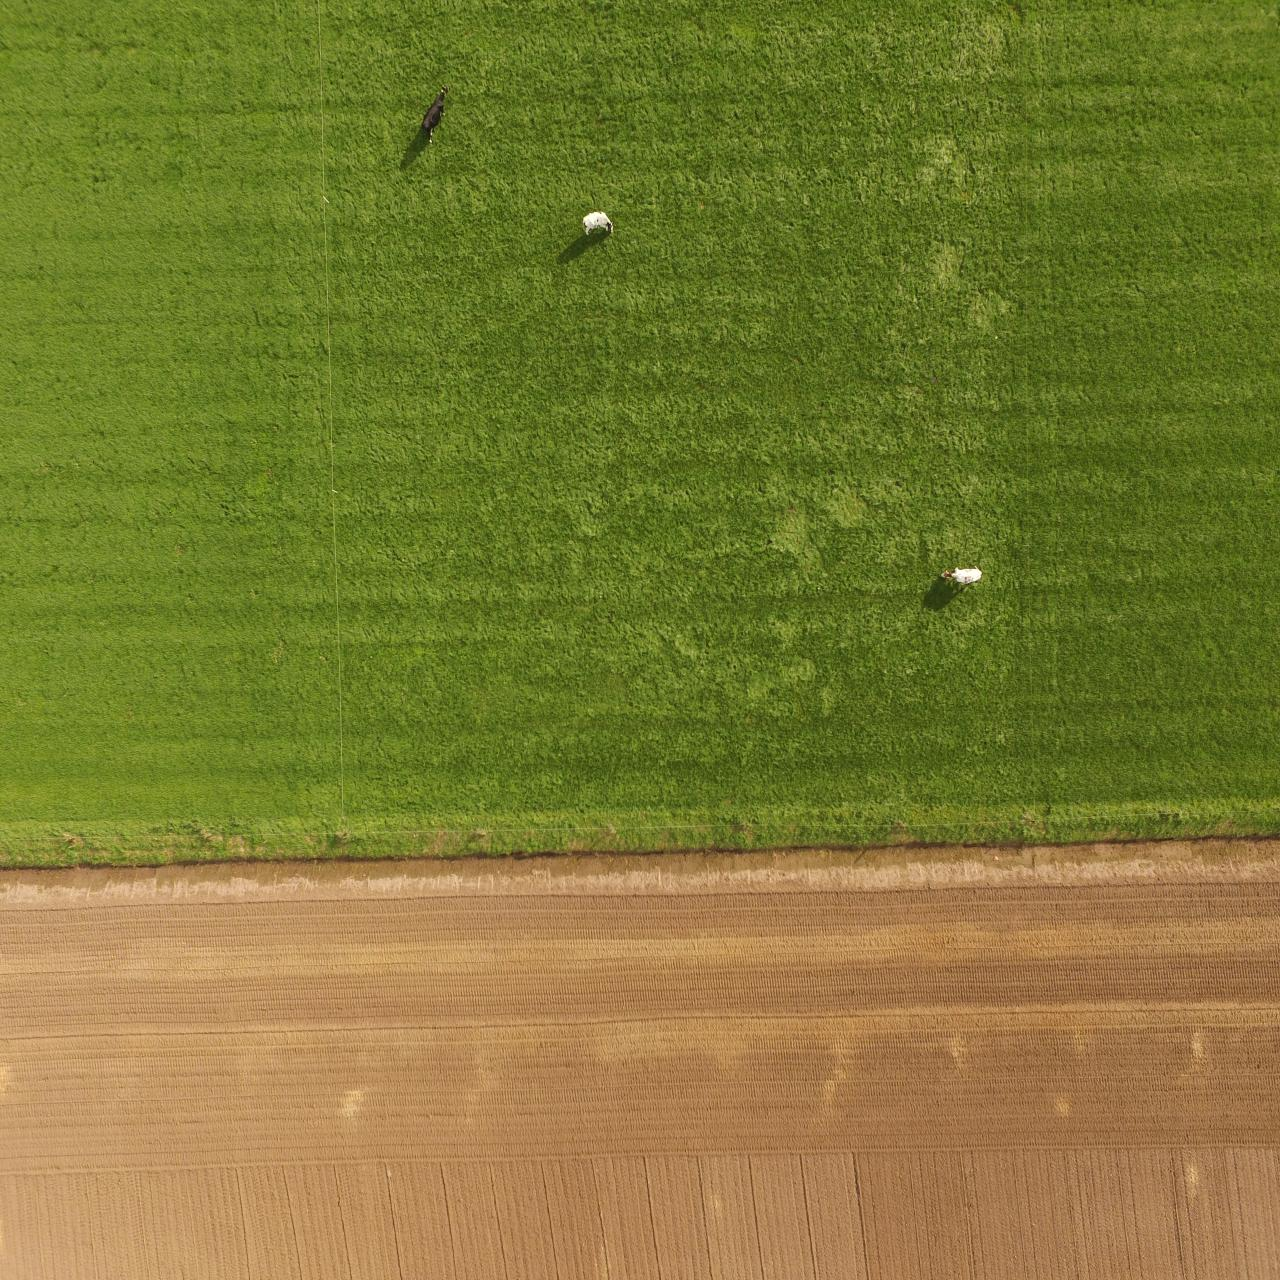cow: (418, 80, 451, 147), (935, 563, 987, 591), (576, 205, 617, 240)
